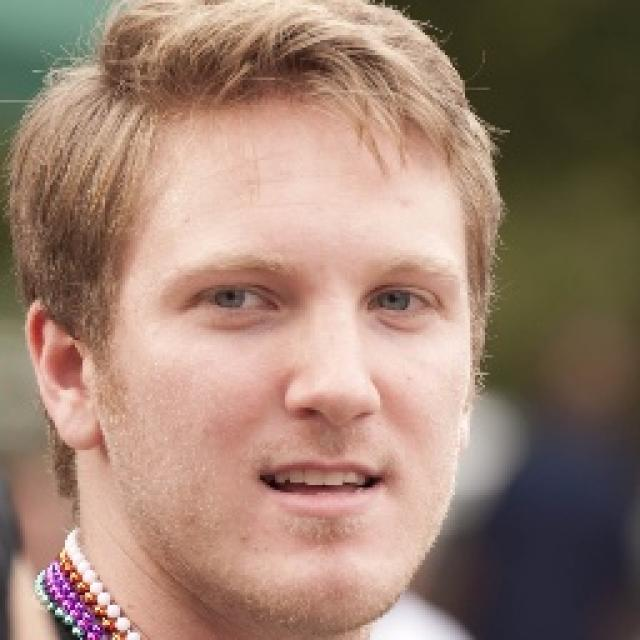earlobe: (49, 394, 103, 452)
eye: (189, 282, 279, 314), (364, 284, 434, 314)
nose: (286, 405, 375, 449)
wholeear: (27, 297, 104, 454)
